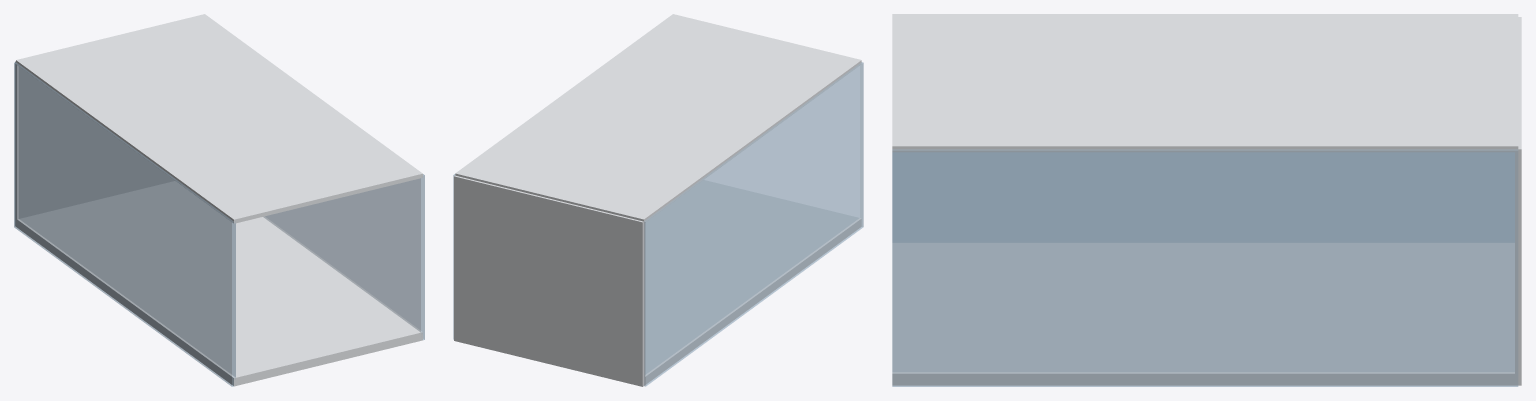
Rendered from ambulance_shell.glb.
3 views of the same model, side by side, from view 1: azimuth 30°, elevation 25°; view 2: azimuth 150°, elevation 25°; view 3: azimuth 270°, elevation 25° (orthographic). The views are drawn at different scales.
Visible parts, largest first — view 1: CabinCeiling, CabinFloor, CabinLeftWall, CabinRightWall, CabinFrontPartition; view 2: CabinCeiling, CabinLeftWall, CabinFrontPartition, CabinFloor; view 3: CabinRightWall, CabinFloor, CabinCeiling, CabinLeftWall, CabinFrontPartition.
Boxes of the visible parts, x1=… form: CabinCeiling: x1=16, y1=14, x2=422, y2=223; CabinFloor: x1=16, y1=181, x2=422, y2=386; CabinLeftWall: x1=14, y1=62, x2=235, y2=386; CabinRightWall: x1=264, y1=174, x2=424, y2=340; CabinFrontPartition: x1=15, y1=61, x2=174, y2=226; CabinCeiling: x1=455, y1=14, x2=861, y2=222; CabinLeftWall: x1=644, y1=62, x2=863, y2=386; CabinFrontPartition: x1=454, y1=175, x2=644, y2=386; CabinFloor: x1=644, y1=180, x2=861, y2=384; CabinRightWall: x1=892, y1=149, x2=1518, y2=386; CabinFloor: x1=892, y1=242, x2=1518, y2=385; CabinCeiling: x1=892, y1=14, x2=1518, y2=152; CabinLeftWall: x1=892, y1=152, x2=1514, y2=241; CabinFrontPartition: x1=1515, y1=17, x2=1521, y2=385.
Bounding box in the file's own units: 2.45 × 2.02 × 4.82.
